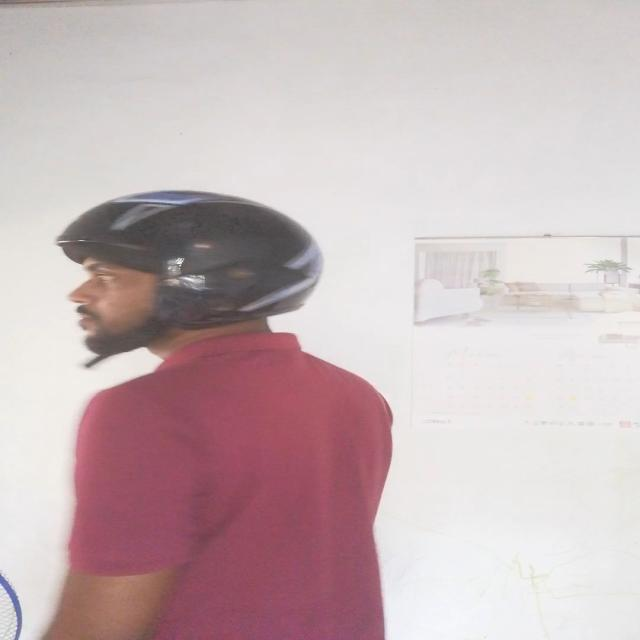Helmet_Wearer: (61, 192, 335, 382)
